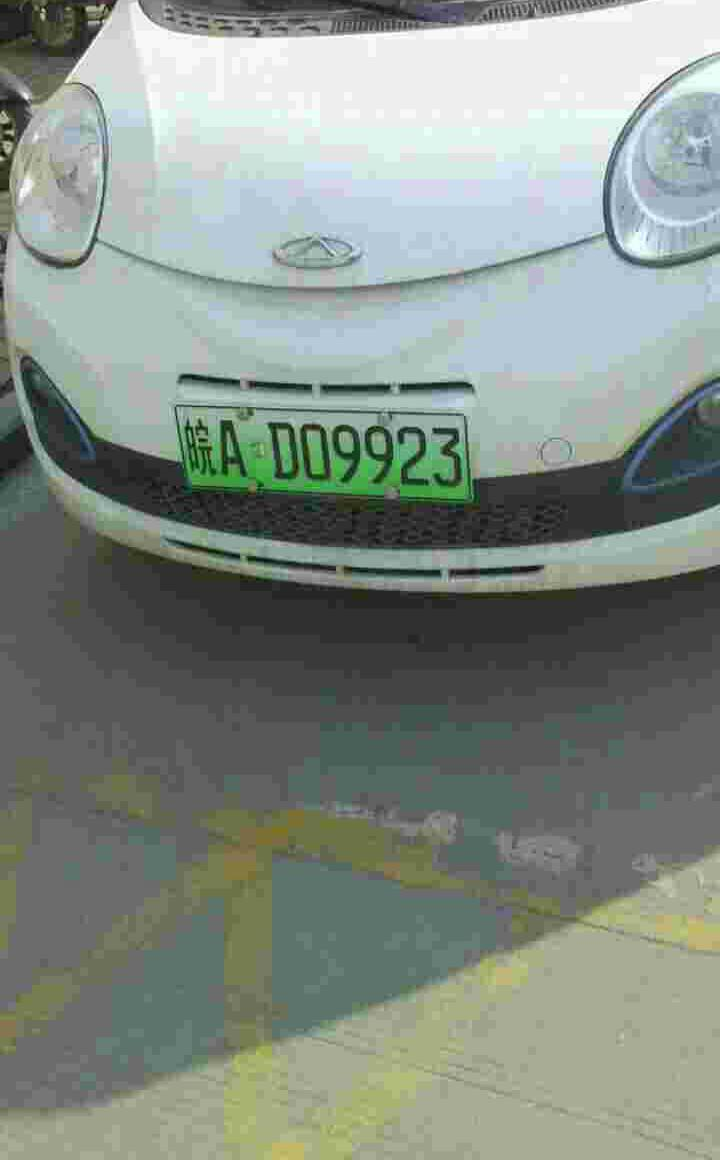car_id: (175, 404, 472, 499)
